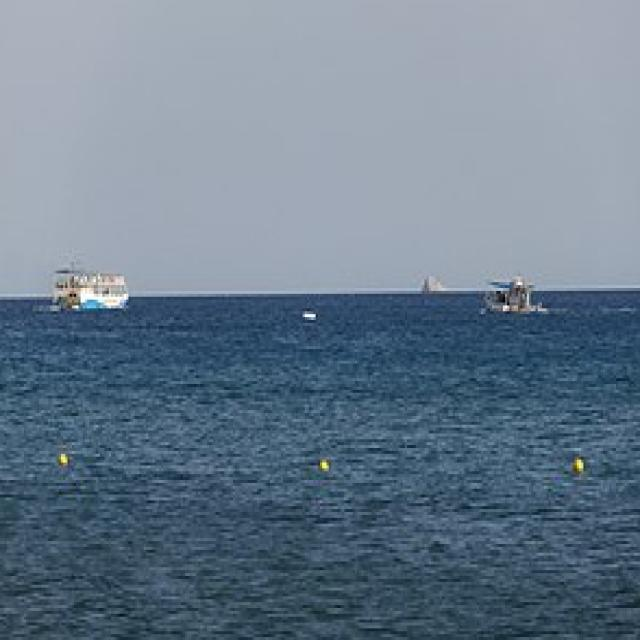buoy: (51, 440, 92, 490), (564, 458, 603, 489), (312, 440, 330, 488)
houseboat: (46, 251, 126, 315)
